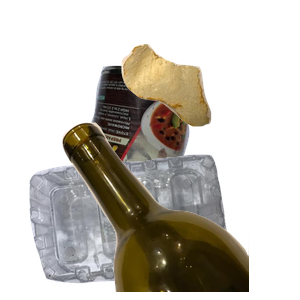glass: (60, 120, 300, 300)
metal: (78, 63, 266, 243)
plastic: (27, 152, 247, 300)
trash: (119, 42, 300, 161)
